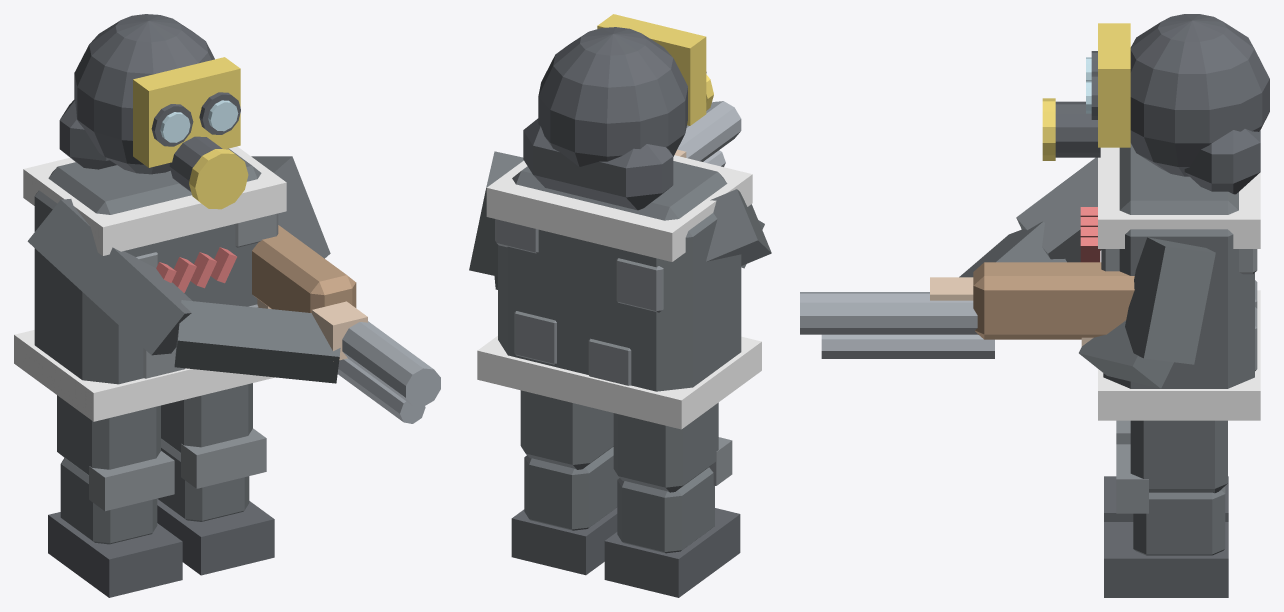
Rendered from shotgun@toxico.glb.
The picture shows the model from 3 angles, left to right: view 1: azimuth 30°, elevation 25°; view 2: azimuth 150°, elevation 25°; view 3: azimuth 270°, elevation 25°; orthographic projection. The views are drawn at different scales.
Visible parts, largest first — view 1: main, shinl, shinr, legl, legr; view 2: main, shinl, shinr, legl, legr; view 3: main, shinr, legr, shinl.
Boxes of the visible parts, box(x1,y1,x2,y2) form: main: box(14, 14, 440, 423); shinl: box(48, 451, 182, 597); shinr: box(157, 428, 274, 575); legl: box(57, 395, 160, 475); legr: box(161, 383, 252, 452); main: box(469, 14, 771, 429); shinl: box(604, 437, 740, 597); shinr: box(511, 447, 619, 575); legl: box(613, 402, 718, 492); legr: box(520, 390, 613, 469); main: box(800, 14, 1269, 420); shinr: box(1104, 444, 1228, 597); legr: box(1130, 420, 1227, 493); shinl: box(1104, 420, 1228, 521).
Size of the model in its own units: 0.3161 by 0.5462 by 0.4336.
